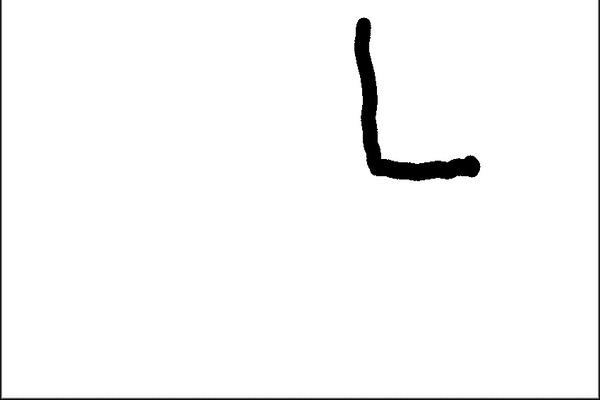L: (348, 11, 487, 183)
